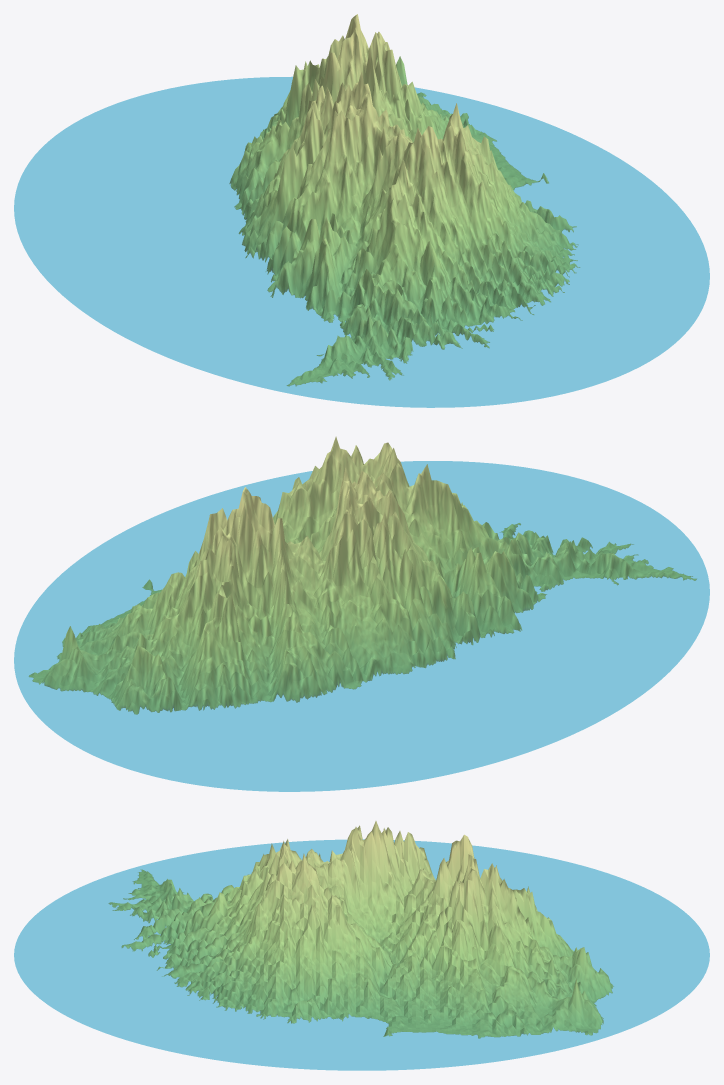
Rendered from GRD-terrain.glb.
The picture shows the model from 3 angles, top to bottom: view 1: azimuth 30°, elevation 25°; view 2: azimuth 150°, elevation 25°; view 3: azimuth 270°, elevation 25°; orthographic projection. The views are drawn at different scales.
Parts seen in each view (by area): view 1: Relevo com hidrografia; view 2: Relevo com hidrografia; view 3: Relevo com hidrografia.
Part boxes in pixels (bbox=[...]): Relevo com hidrografia: bbox=[14, 14, 709, 407]; Relevo com hidrografia: bbox=[14, 436, 709, 791]; Relevo com hidrografia: bbox=[14, 821, 709, 1070].
Size of the model in its own units: 1.74 by 0.5051 by 2.22.
Materials: 2 (1 with a texture image).
